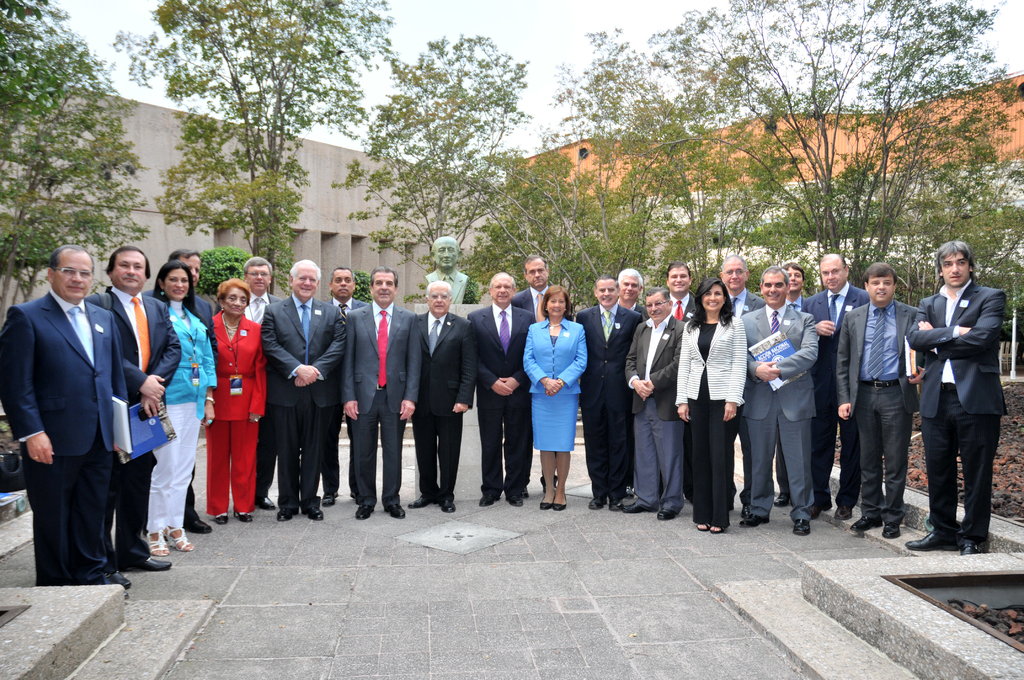Tree: (563, 0, 1023, 355), (99, 0, 401, 309), (328, 37, 562, 272), (0, 0, 150, 336)
